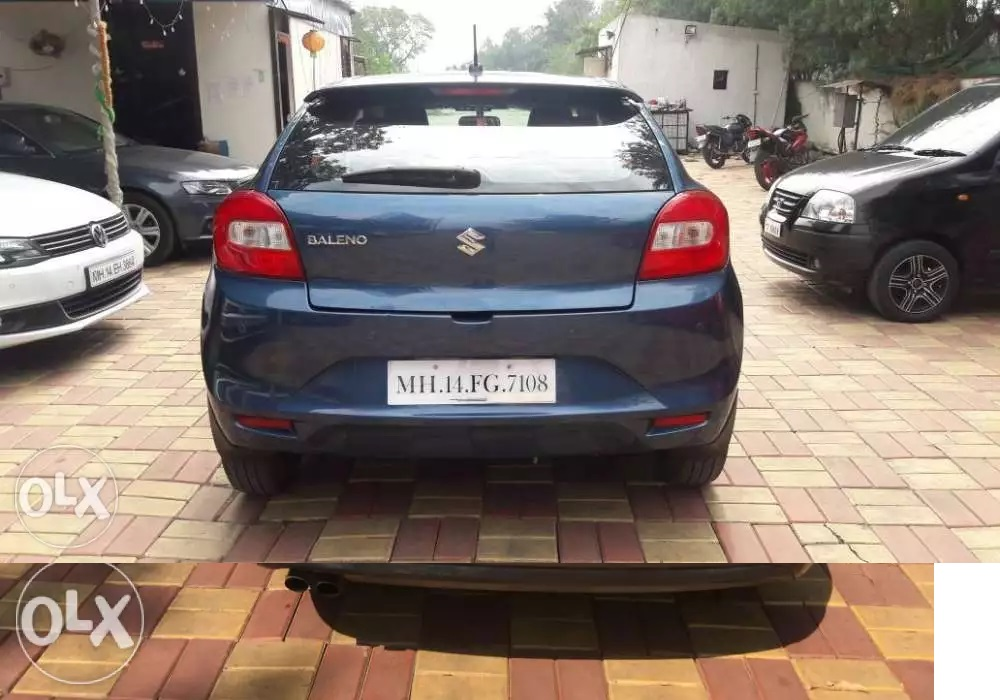licenseplate: (385, 355, 568, 410)
